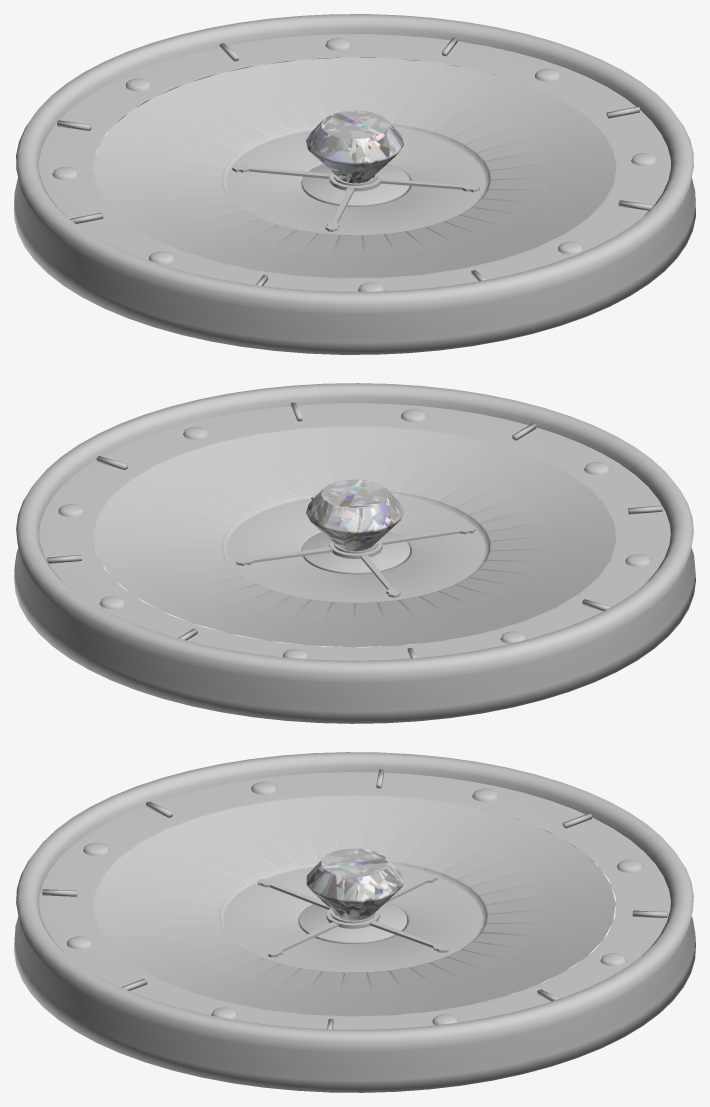
The model's file is roundm.fbx.
The picture shows the model from 3 angles, top to bottom: view 1: azimuth 30°, elevation 25°; view 2: azimuth 150°, elevation 25°; view 3: azimuth 270°, elevation 25°; orthographic projection.
Visible parts, largest first — view 1: Outer, Inner, Diamond; view 2: Outer, Inner, Diamond; view 3: Outer, Inner, Diamond.
Boxes of the visible parts, x1=… form: Outer: x1=14, y1=14, x2=695, y2=354; Inner: x1=93, y1=57, x2=616, y2=278; Diamond: x1=306, y1=110, x2=403, y2=183; Outer: x1=14, y1=383, x2=695, y2=723; Inner: x1=94, y1=426, x2=616, y2=647; Diamond: x1=306, y1=479, x2=403, y2=551; Outer: x1=14, y1=752, x2=695, y2=1092; Inner: x1=94, y1=795, x2=615, y2=1016; Diamond: x1=306, y1=848, x2=403, y2=920.
Size of the model in its own units: 34.44 by 4.84 by 34.44.
